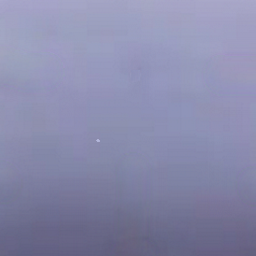Target: (94, 137, 101, 144)
